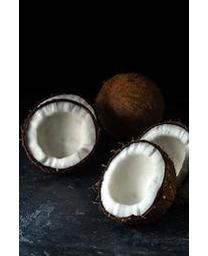coconut: (95, 139, 178, 223), (21, 93, 100, 175), (137, 120, 189, 190)
